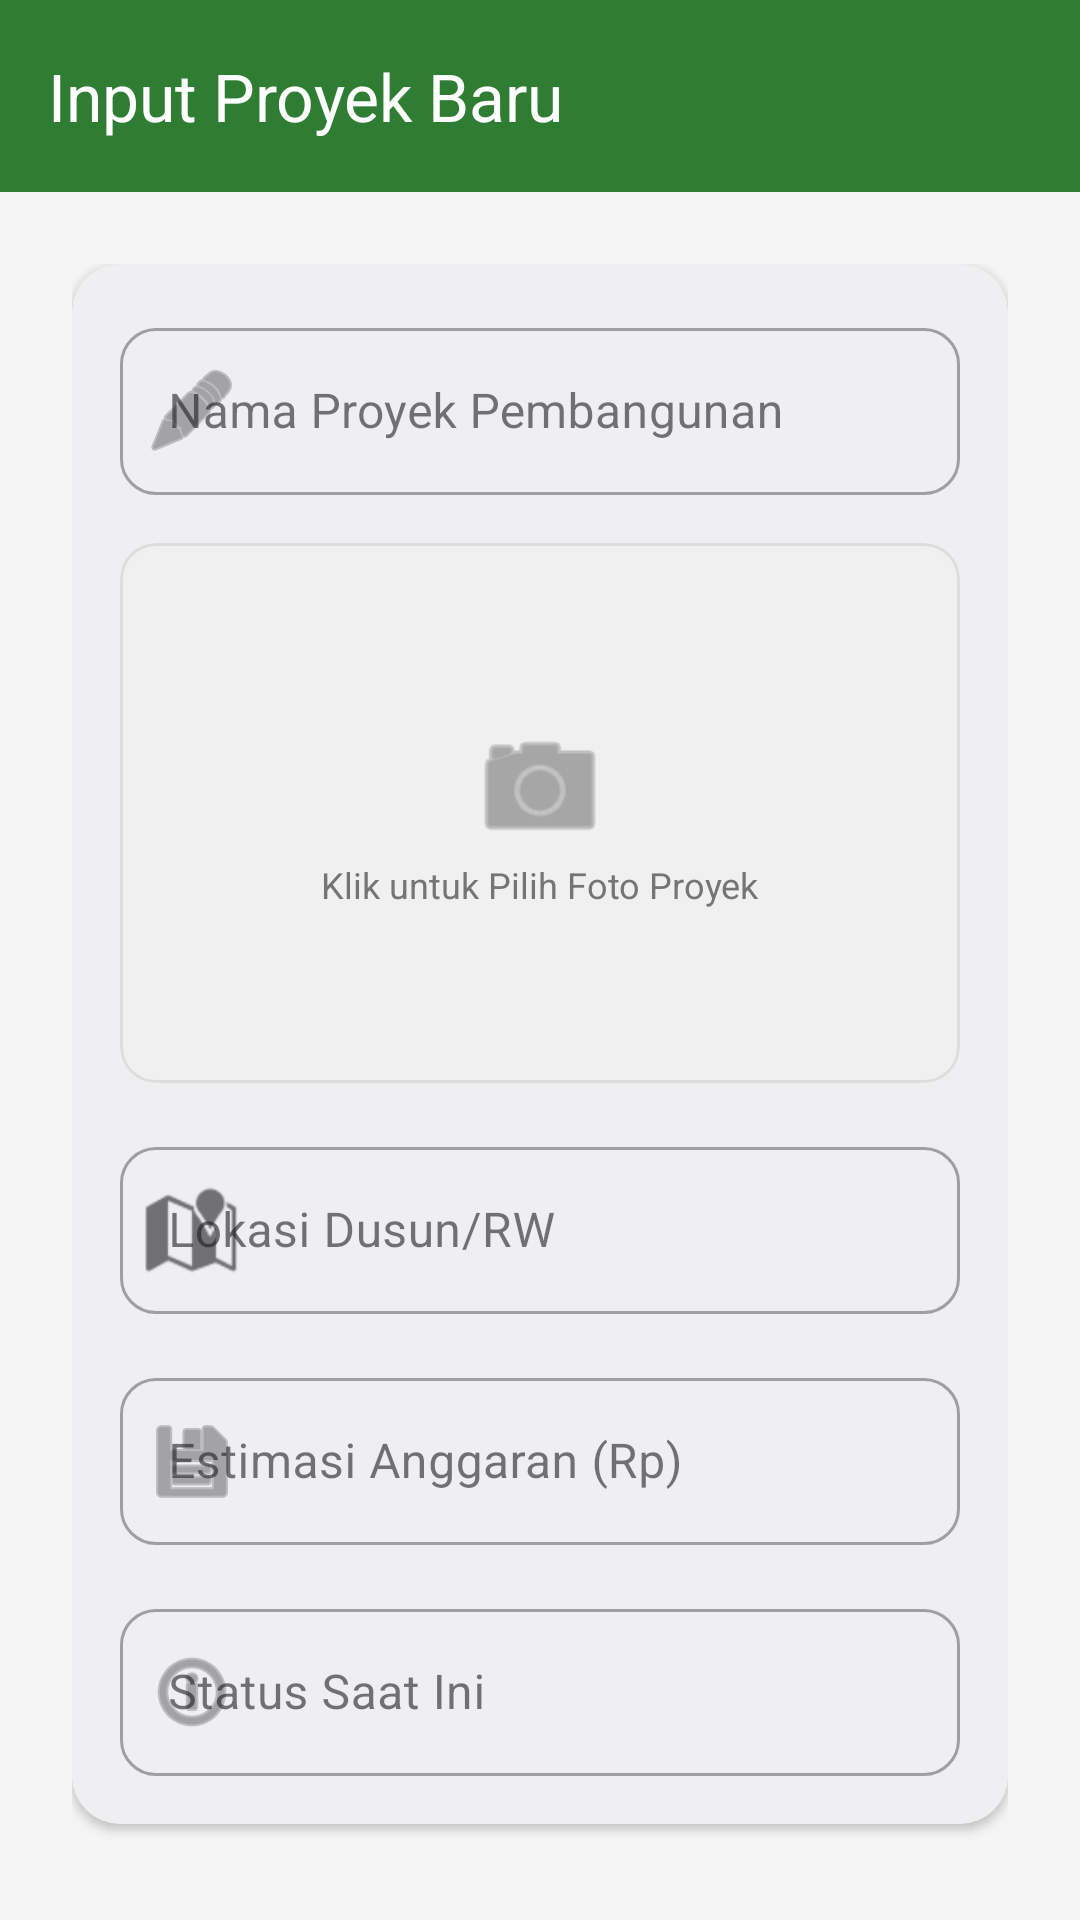

Named icons in this screenshot (1080x1920) and their centers, [x,y]:
camera: [540,786]
